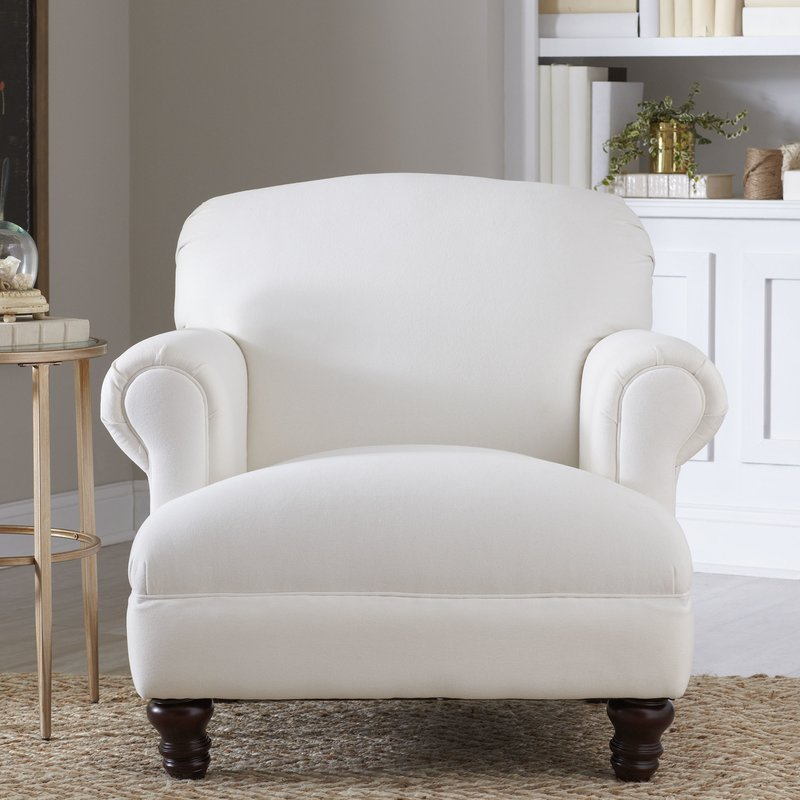chairs: (99, 170, 729, 780)
